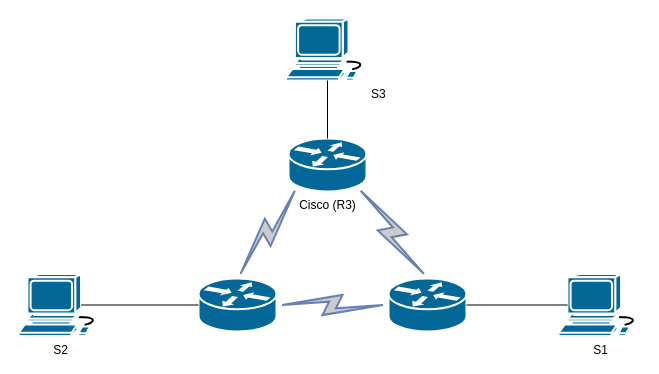
Some shapes in this 659 by 374 pixel diagram are drawn without their labels. Here are the shapes that lost their labels. From the top down, the centre of each, then its label:
At (237,304): "R1".
At (427,304): "R2".
